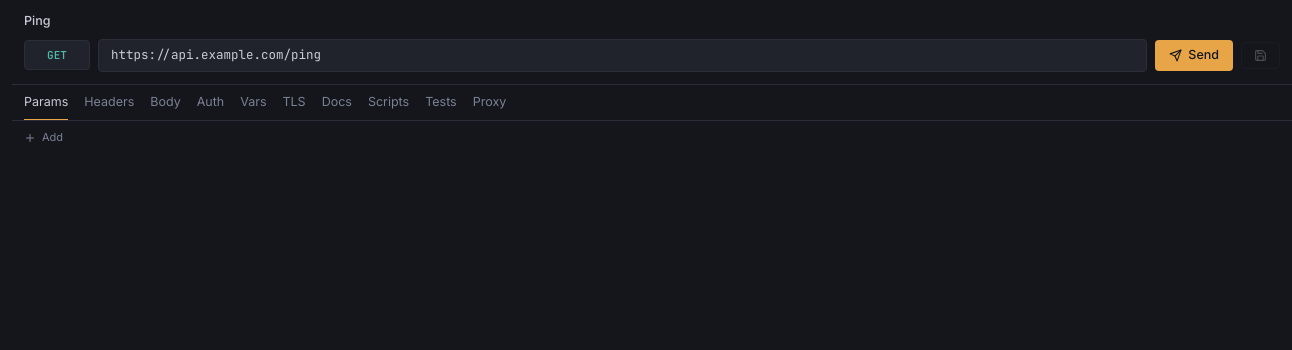
it: RequestBuilder › changes the HTTP method via the method dropdown
This screenshot has width=1292, height=350.
Click the button "GET": coordinates (57, 55) [24,40,90,70]
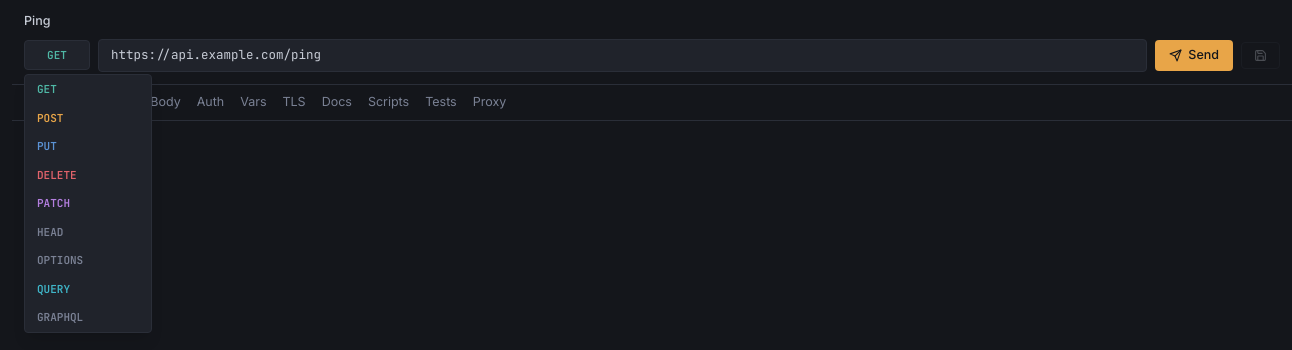
Click the button "POST": coordinates (88, 118) [25,104,151,132]
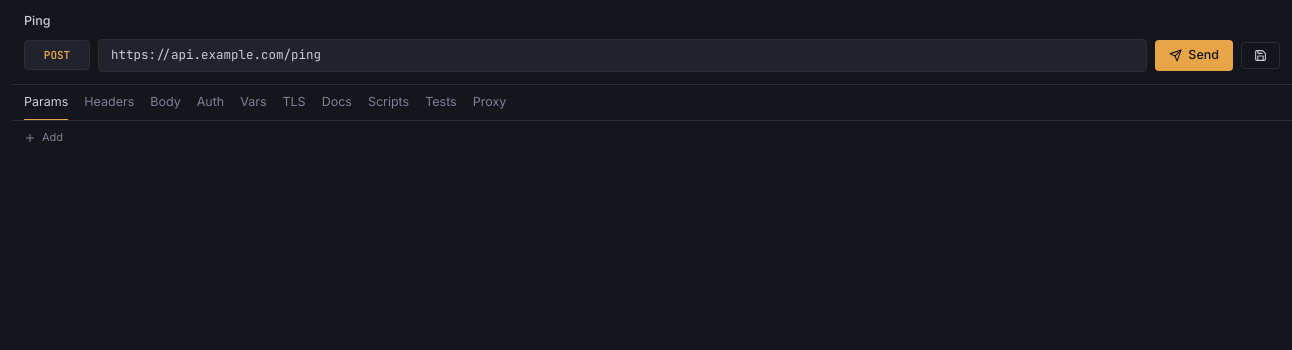
Check: the text "GET" reads "POST", box [44,48,70,62]
